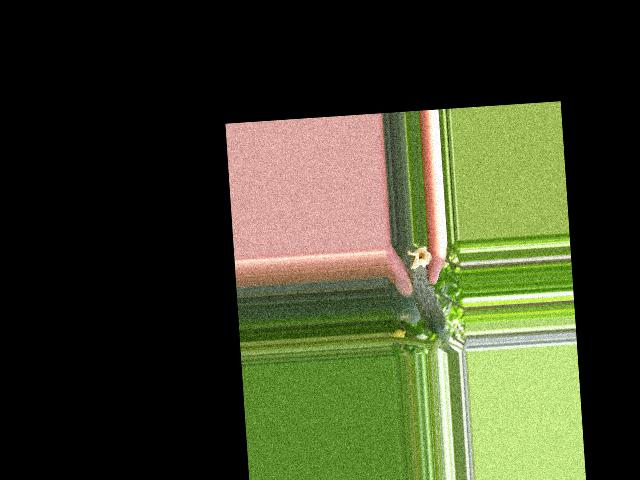cucumber: (406, 246, 446, 336)
